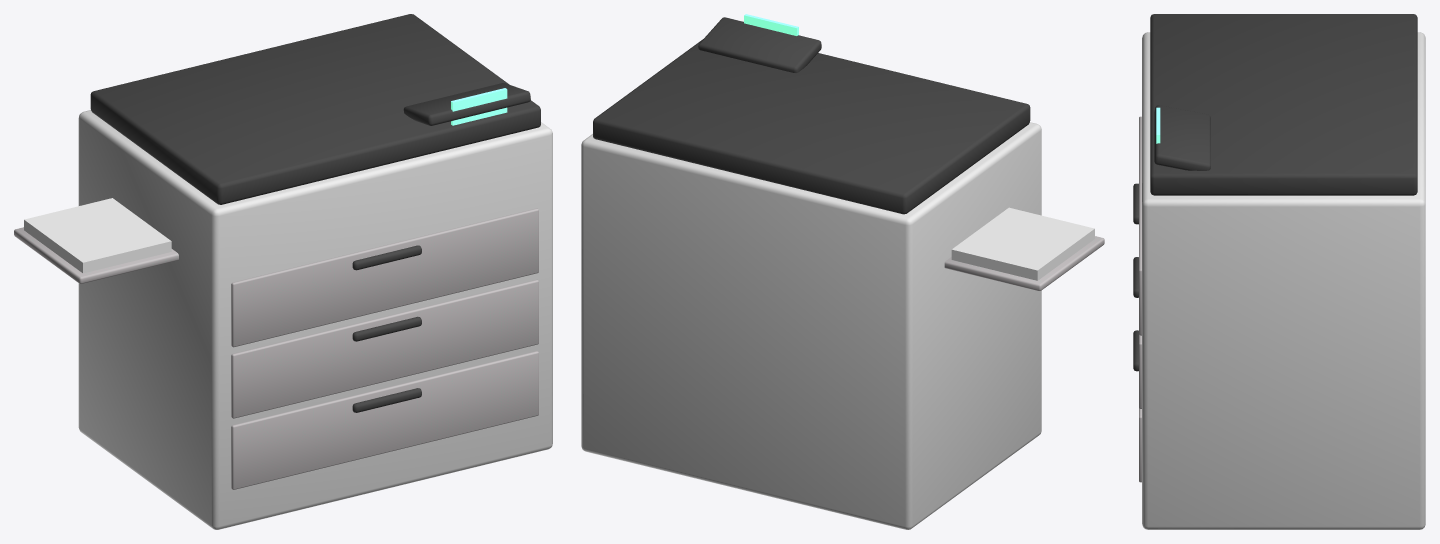
The model's file is copier.glb.
3 views of the same model, side by side, from view 1: azimuth 30°, elevation 25°; view 2: azimuth 150°, elevation 25°; view 3: azimuth 270°, elevation 25° (orthographic). The views are drawn at different scales.
Parts seen in each view (by area): view 1: Cube.001, Cube, Cube.011, Cube.003; view 2: Cube, Cube.001, Cube.011; view 3: Cube, Cube.001.
Boxes of the visible parts, x1,y1,x2,y2 form: Cube.001: [14, 14, 540, 489]; Cube: [78, 110, 552, 529]; Cube.011: [24, 198, 171, 273]; Cube.003: [451, 88, 507, 125]; Cube: [581, 122, 1041, 529]; Cube.001: [593, 17, 1104, 290]; Cube.011: [951, 207, 1094, 280]; Cube: [1142, 32, 1425, 529]; Cube.001: [1133, 14, 1417, 482].
Size of the model in its own units: 1.29 by 1.02 by 0.722.
4 materials, 4 textured.
